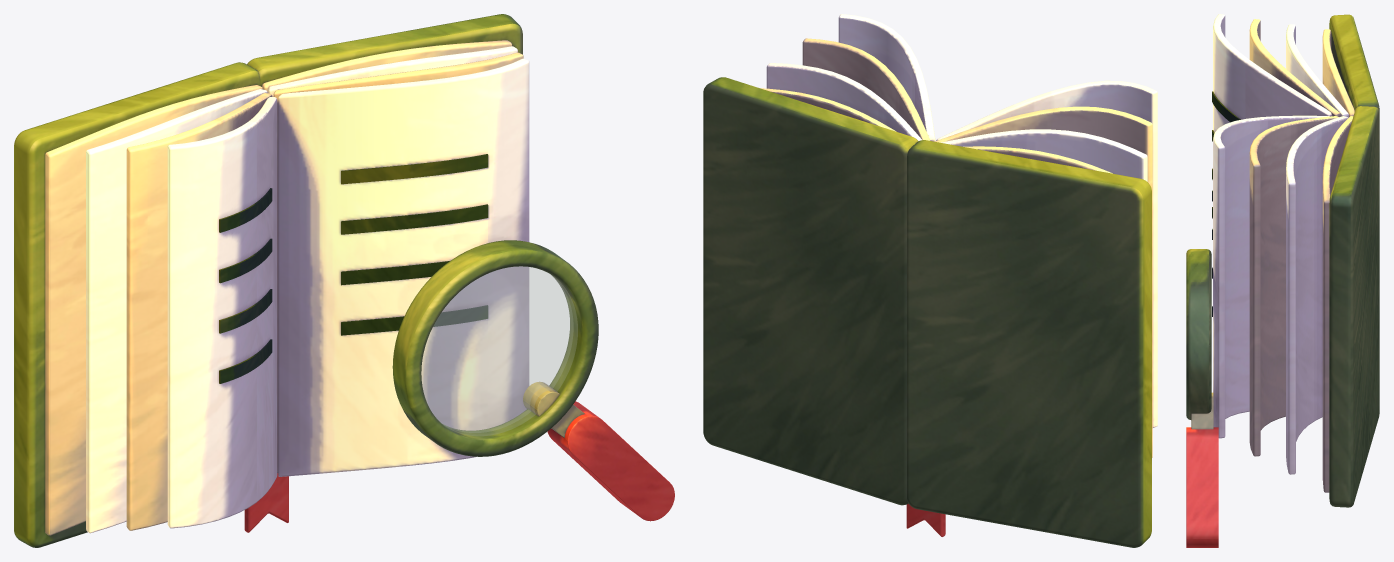
The model's file is search.glb.
3 renders of one model, left to right at view 1: azimuth 30°, elevation 25°; view 2: azimuth 150°, elevation 25°; view 3: azimuth 270°, elevation 25°, orthographic. The views are drawn at different scales.
Parts seen in each view (by area): view 1: Curved page section.007, Curved page section.003, Optical lens, Book cover, Curved page section, Curved page section.001, Curved page section.002, Magnifier • olive rim, Magnifier • coral grip, Book cover.001, Curved page section.006, Curved page section.004 (+11 smaller); view 2: Book cover, Book cover.001, Curved page section.003, Curved page section.002, Curved page section.001, Curved page section.006, Curved page section.007, Curved page section.005, Curved page section.004, Curved page section, Ribbon bookmark; view 3: Book cover.001, Curved page section.006, Curved page section.007, Curved page section.005, Curved page section.003, Magnifier • olive rim, Magnifier • coral grip, Curved page section.004, Book cover, Curved page section.002, Curved page section.001, Curved page section (+2 smaller).
Part boxes in pixels (x1,y1,x2,y2): Curved page section.007: (278,58,529,476); Curved page section.003: (167,97,277,528); Optical lens: (421,266,577,435); Book cover: (14,62,260,547); Curved page section: (45,85,262,535); Curved page section.001: (86,89,267,533); Curved page section.002: (126,93,272,530); Magnifier • olive rim: (392,240,598,456); Magnifier • coral grip: (547,401,674,521); Book cover.001: (247,14,522,86); Curved page section.006: (273,52,523,473); Curved page section.004: (262,40,512,92); Book cover: (907,140,1151,547); Book cover.001: (703,77,918,505); Curved page section.003: (936,80,1157,427); Curved page section.002: (935,106,1152,457); Curved page section.001: (941,129,1147,181); Curved page section.006: (802,38,930,140); Curved page section.007: (838,14,935,141); Curved page section.005: (766,63,921,140); Curved page section.004: (761,88,896,131); Curved page section: (963,146,1112,173); Ribbon bookmark: (906,503,945,536); Book cover.001: (1329,106,1379,507); Curved page section.006: (1249,116,1338,456); Curved page section.007: (1213,115,1329,438); Curved page section.005: (1286,116,1348,474); Curved page section.003: (1213,14,1332,132); Magnifier • olive rim: (1186,249,1211,419); Magnifier • coral grip: (1186,427,1218,547); Curved page section.004: (1322,116,1353,492); Book cover: (1329,14,1379,111); Curved page section.002: (1249,19,1340,116); Curved page section.001: (1286,24,1348,117); Curved page section: (1322,29,1354,116).
Size of the model in its own units: 2.42 by 2.02 by 0.9555.
Materials: 7 (6 with a texture image).
